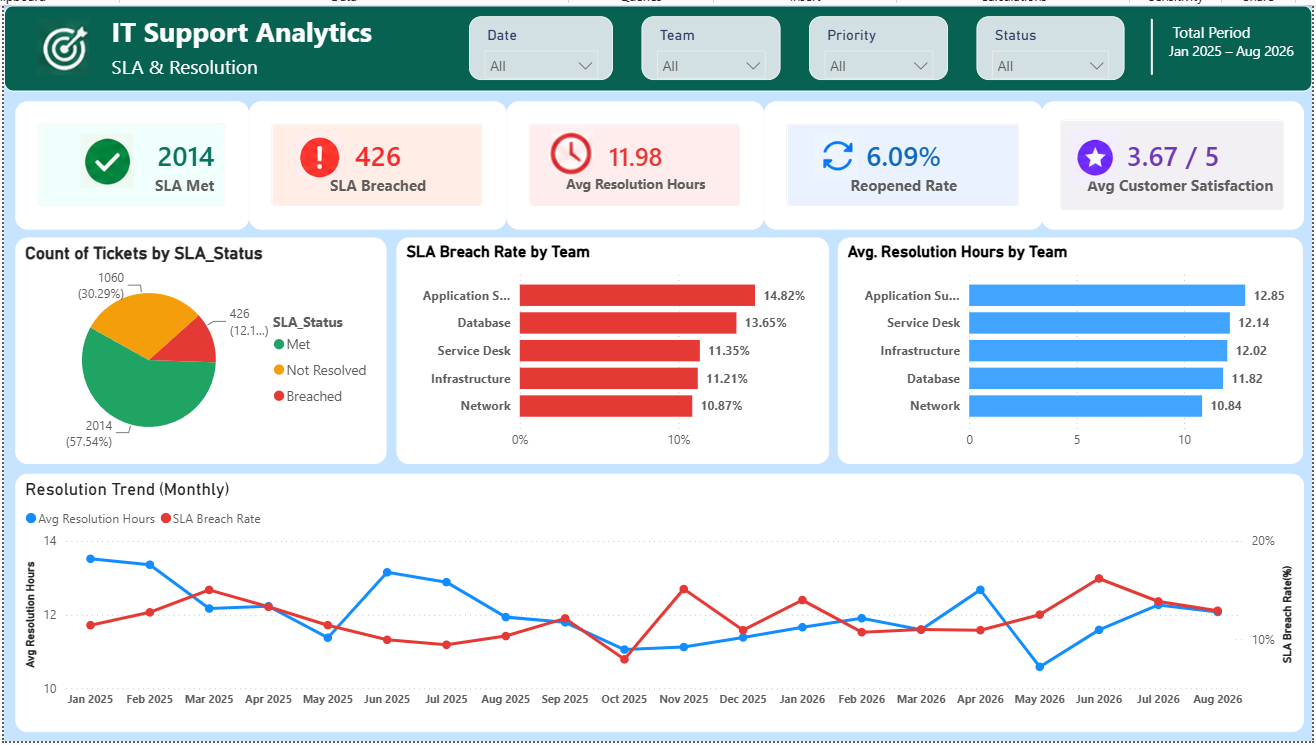

The page's visual inventory and layout, read from the dashboard file:
{"tool":"powerbi","page":{"name":"SLA & Resolution","canvas":[1280,720],"ordinal":1},"visuals":[{"type":"shape","box":[0,0,1280.3,85.1],"z":0},{"type":"textbox","box":[100.3,3,299.6,80],"z":1000},{"type":"textbox","box":[100.3,43,299.6,39],"z":2000},{"type":"slicer","fields":{"Values":["it_support_analytics tickets.Created_Date"]},"box":[454.8,10.9,141.2,62.7],"z":3000},{"type":"slicer","fields":{"Values":["it_support_analytics tickets.Team"]},"box":[623.4,10.9,136.3,62.7],"z":4000},{"type":"slicer","fields":{"Values":["it_support_analytics tickets.Priority"]},"box":[787.2,10.9,136.3,62.7],"z":5000},{"type":"slicer","fields":{"Values":["it_support_analytics tickets.Status"]},"box":[951,10.9,144.8,62.7],"z":6000},{"type":"textbox","box":[1123.2,10.9,148.4,62.7],"z":7000},{"type":"shape","box":[1100.3,14,44.6,55],"z":8000},{"type":"cardVisual","fields":{"Data":["it_support_analytics tickets.SLA Met"]},"box":[11,94.2,228.7,126],"z":9000},{"type":"cardVisual","fields":{"Data":["it_support_analytics tickets.Avg Customer Satisfaction Display"]},"box":[1015,94.2,256.8,126],"z":10000},{"type":"image","box":[70.9,126,59.9,52.6],"z":11000},{"type":"cardVisual","fields":{"Data":["it_support_analytics tickets.SLA Breached"]},"box":[239.7,94.2,251.9,126],"z":12000},{"type":"cardVisual","fields":{"Data":["it_support_analytics tickets.Reopened Rate"]},"box":[743.5,94.2,272.7,126],"z":13000},{"type":"image","box":[281.3,126,52.6,44],"z":14000},{"type":"cardVisual","fields":{"Data":["it_support_analytics tickets.Avg Resolution Hours"]},"box":[491.6,94.2,251.9,126],"z":15000},{"type":"image","box":[514.8,117.4,80.7,50.1],"z":16000},{"type":"image","box":[787.5,127.2,55,41.6],"z":17000},{"type":"image","box":[1029.6,122.3,73.4,50.1],"z":18000},{"type":"pieChart","title":"Count of Tickets by SLA_Status","fields":{"Category":["it_support_analytics tickets.SLA_Status"],"Y":["CountNonNull(it_support_analytics tickets.Ticket_ID)"]},"box":[11,227.4,363.2,221.3],"z":19000},{"type":"clusteredBarChart","title":"SLA Breach Rate by Team","fields":{"Category":["it_support_analytics tickets.Team"],"Y":["it_support_analytics tickets.SLA Breach Rate"]},"box":[383.4,227.4,423.1,221.3],"z":20000},{"type":"clusteredBarChart","title":"Avg. Resolution Hours by Team","fields":{"Category":["it_support_analytics tickets.Team"],"Y":["it_support_analytics tickets.Avg Resolution Hours"]},"box":[815.6,227.4,454.9,221.3],"z":21000},{"type":"lineChart","title":"Resolution Trend (Monthly)","fields":{"Y":["it_support_analytics tickets.Avg Resolution Hours"],"Category":["it_support_analytics tickets.Month Year"],"Y2":["it_support_analytics tickets.SLA Breach Rate"]},"box":[11,458.6,1260.7,253.1],"z":22000},{"type":"image","box":[25.7,13.5,63.6,55],"z":23000}]}

Visuals, with their boxes in screenshot pixels (x1, y1, x2, y2), scaled from the page's 1280x720 canvas onto the 1316x745 screenshot:
shape: rect(0, 0, 1315, 88)
textbox: rect(103, 3, 411, 86)
textbox: rect(103, 44, 411, 85)
slicer - it_support_analytics tickets.Created_Date: rect(468, 11, 613, 76)
slicer - it_support_analytics tickets.Team: rect(641, 11, 781, 76)
slicer - it_support_analytics tickets.Priority: rect(809, 11, 949, 76)
slicer - it_support_analytics tickets.Status: rect(978, 11, 1127, 76)
textbox: rect(1155, 11, 1307, 76)
shape: rect(1131, 14, 1177, 71)
cardVisual - it_support_analytics tickets.SLA Met: rect(11, 97, 246, 228)
cardVisual - it_support_analytics tickets.Avg Customer Satisfaction Display: rect(1044, 97, 1308, 228)
image: rect(73, 130, 134, 185)
cardVisual - it_support_analytics tickets.SLA Breached: rect(246, 97, 505, 228)
cardVisual - it_support_analytics tickets.Reopened Rate: rect(764, 97, 1045, 228)
image: rect(289, 130, 343, 176)
cardVisual - it_support_analytics tickets.Avg Resolution Hours: rect(505, 97, 764, 228)
image: rect(529, 121, 612, 173)
image: rect(810, 132, 866, 175)
image: rect(1059, 127, 1134, 178)
"Count of Tickets by SLA_Status" pieChart: rect(11, 235, 385, 464)
"SLA Breach Rate by Team" clusteredBarChart: rect(394, 235, 829, 464)
"Avg. Resolution Hours by Team" clusteredBarChart: rect(839, 235, 1306, 464)
"Resolution Trend (Monthly)" lineChart: rect(11, 475, 1307, 736)
image: rect(26, 14, 92, 71)
